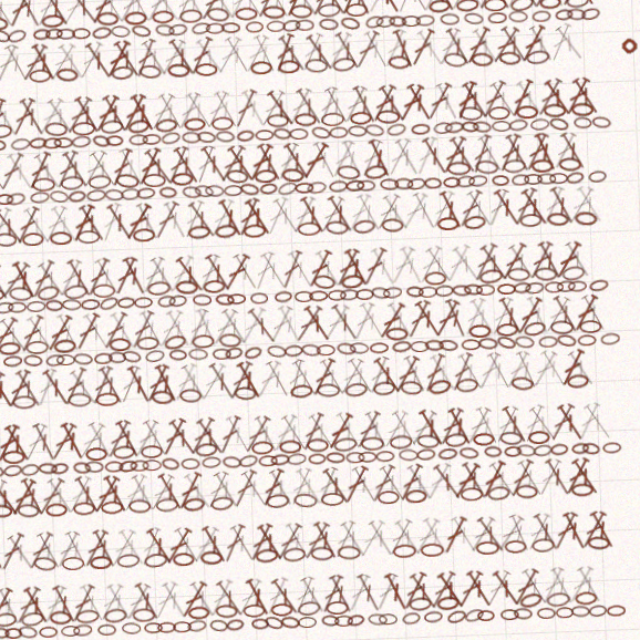chain: (520, 54, 543, 70), (83, 299, 105, 315), (196, 348, 218, 364), (521, 348, 543, 364), (433, 397, 455, 413), (508, 593, 530, 609), (458, 103, 480, 118), (158, 201, 180, 216), (358, 201, 380, 216), (483, 201, 505, 216), (246, 54, 267, 69), (258, 201, 279, 216), (333, 299, 354, 314), (71, 544, 92, 559), (308, 593, 329, 608), (533, 104, 555, 118), (58, 300, 80, 314), (108, 300, 130, 314), (483, 300, 505, 314), (346, 447, 368, 461), (308, 496, 330, 510), (171, 545, 193, 559), (533, 594, 555, 608), (46, 55, 67, 69), (108, 104, 129, 118), (158, 104, 179, 118), (183, 104, 204, 118), (333, 104, 354, 118), (358, 104, 379, 118), (408, 104, 429, 118), (483, 104, 504, 118), (508, 104, 529, 118), (21, 153, 42, 167), (171, 153, 192, 167), (196, 153, 217, 167), (308, 202, 329, 216), (383, 202, 404, 216), (346, 251, 367, 265), (371, 251, 392, 265), (471, 251, 492, 265), (546, 251, 567, 265), (571, 251, 592, 265), (358, 300, 379, 314), (533, 300, 554, 314), (558, 300, 579, 314), (21, 349, 42, 363), (246, 349, 267, 363), (183, 398, 204, 412), (358, 398, 379, 412), (408, 398, 429, 412), (508, 398, 529, 412), (221, 447, 242, 461), (421, 447, 442, 461), (496, 447, 517, 461), (58, 496, 79, 510), (208, 496, 229, 510), (233, 496, 254, 510), (483, 496, 504, 510), (58, 594, 79, 608), (183, 300, 205, 313), (283, 496, 305, 509), (50, 66, 69, 81), (139, 311, 158, 326), (496, 360, 515, 375), (277, 605, 296, 620), (458, 605, 477, 620), (571, 55, 592, 68), (46, 153, 67, 166), (96, 153, 117, 166), (396, 153, 417, 166), (471, 153, 492, 166), (33, 202, 54, 215), (458, 202, 479, 215), (246, 251, 267, 264), (546, 349, 567, 362), (108, 398, 129, 411), (258, 398, 279, 411), (333, 398, 354, 411), (21, 447, 42, 460), (346, 545, 367, 558), (108, 594, 129, 607), (133, 594, 154, 607), (65, 67, 84, 81), (177, 67, 196, 81), (366, 67, 385, 81), (336, 165, 355, 179), (551, 165, 570, 179), (304, 214, 323, 228), (30, 459, 49, 473), (442, 606, 461, 620), (22, 55, 42, 68), (147, 55, 167, 68), (297, 55, 317, 68), (322, 55, 342, 68), (347, 55, 367, 68), (447, 55, 467, 68), (472, 55, 492, 68), (209, 104, 229, 117), (147, 153, 167, 166), (297, 153, 317, 166), (322, 153, 342, 166), (547, 153, 567, 166), (572, 153, 592, 166), (109, 202, 129, 215), (134, 202, 154, 215), (509, 202, 529, 215), (559, 202, 579, 215), (47, 251, 67, 264), (222, 251, 242, 264), (397, 251, 417, 264), (209, 300, 229, 313), (509, 300, 529, 313), (97, 349, 117, 362), (209, 398, 229, 411), (309, 398, 329, 411), (384, 398, 404, 411), (459, 398, 479, 411), (559, 398, 579, 411), (147, 447, 167, 460), (322, 447, 342, 460), (397, 447, 417, 460), (447, 447, 467, 460), (34, 496, 54, 509), (159, 496, 179, 509), (184, 496, 204, 509), (509, 496, 529, 509), (147, 545, 167, 558), (222, 545, 242, 558), (272, 545, 292, 558), (297, 545, 317, 558), (322, 545, 342, 558), (522, 545, 542, 558), (572, 545, 592, 558), (34, 594, 54, 607), (84, 594, 104, 607), (234, 594, 254, 607), (409, 594, 429, 607), (434, 594, 454, 607), (121, 154, 142, 166), (346, 154, 367, 166), (138, 165, 156, 179), (83, 203, 104, 215), (183, 203, 204, 215), (321, 252, 342, 264), (268, 361, 286, 375), (58, 399, 79, 411), (133, 399, 154, 411), (371, 448, 392, 460), (333, 497, 354, 509), (396, 546, 417, 558), (421, 546, 442, 558), (471, 546, 492, 558), (97, 56, 117, 68), (172, 56, 192, 68), (197, 56, 217, 68), (222, 56, 242, 68), (272, 56, 292, 68), (372, 56, 392, 68), (497, 56, 517, 68), (547, 56, 567, 68), (34, 105, 54, 117), (84, 105, 104, 117), (234, 105, 254, 117), (284, 105, 304, 117), (309, 105, 329, 117), (222, 154, 242, 166), (247, 154, 267, 166), (372, 154, 392, 166), (497, 154, 517, 166), (522, 154, 542, 166), (209, 203, 229, 215), (284, 203, 304, 215), (534, 203, 554, 215), (22, 252, 42, 264), (72, 252, 92, 264), (97, 252, 117, 264), (122, 252, 142, 264), (172, 252, 192, 264), (272, 252, 292, 264), (447, 252, 467, 264), (522, 252, 542, 264), (34, 301, 54, 313), (134, 301, 154, 313), (234, 301, 254, 313), (434, 301, 454, 313), (47, 350, 67, 362), (72, 350, 92, 362), (147, 350, 167, 362), (172, 350, 192, 362), (222, 350, 242, 362), (397, 350, 417, 362), (472, 350, 492, 362), (497, 350, 517, 362), (572, 350, 592, 362), (47, 448, 67, 460), (122, 448, 142, 460), (172, 448, 192, 460), (272, 448, 292, 460), (297, 448, 317, 460), (472, 448, 492, 460), (522, 448, 542, 460), (84, 497, 104, 509), (109, 497, 129, 509), (134, 497, 154, 509), (384, 497, 404, 509), (409, 497, 429, 509), (459, 497, 479, 509), (559, 497, 579, 509), (22, 546, 42, 558), (97, 546, 117, 558), (122, 546, 142, 558), (197, 546, 217, 558), (497, 546, 517, 558), (159, 595, 179, 607), (209, 595, 229, 607), (259, 595, 279, 607), (284, 595, 304, 607), (334, 595, 354, 607), (559, 595, 579, 607), (232, 67, 250, 80), (584, 67, 602, 80), (201, 165, 219, 178), (385, 165, 403, 178), (405, 165, 423, 178), (98, 214, 116, 227), (229, 214, 247, 227), (270, 214, 288, 227), (385, 312, 403, 325), (158, 361, 176, 374), (179, 361, 197, 374), (289, 361, 307, 374), (320, 361, 338, 374), (352, 361, 370, 374), (513, 361, 531, 374), (551, 361, 569, 374), (260, 459, 278, 472), (511, 459, 529, 472), (55, 606, 73, 619), (292, 606, 310, 619), (389, 67, 406, 80), (302, 165, 319, 178), (251, 361, 268, 374), (190, 459, 207, 472), (31, 68, 49, 80), (142, 68, 160, 80), (199, 68, 217, 80), (211, 68, 229, 80), (347, 68, 365, 80), (478, 68, 496, 80), (65, 166, 83, 178), (233, 166, 251, 178), (250, 166, 268, 178), (482, 166, 500, 178), (590, 166, 608, 178), (59, 215, 77, 227), (148, 215, 166, 227), (218, 215, 236, 227), (331, 215, 349, 227), (421, 215, 439, 227), (45, 313, 63, 325), (244, 313, 262, 325), (458, 313, 476, 325), (524, 313, 542, 325), (582, 313, 600, 325), (89, 362, 107, 374), (114, 362, 132, 374), (444, 362, 462, 374), (47, 460, 65, 472), (151, 460, 169, 472), (245, 460, 263, 472), (440, 460, 458, 472), (459, 460, 477, 472), (526, 460, 544, 472), (371, 607, 389, 619), (314, 68, 331, 80), (410, 68, 427, 80), (269, 166, 286, 178), (115, 215, 132, 227), (565, 215, 582, 227), (63, 460, 80, 472), (90, 460, 107, 472), (110, 460, 127, 472), (570, 460, 587, 472), (228, 607, 245, 619), (243, 607, 260, 619), (352, 607, 369, 619), (402, 607, 419, 619), (159, 68, 177, 79), (571, 68, 589, 79), (120, 166, 138, 177), (447, 166, 465, 177), (457, 166, 475, 177), (515, 166, 533, 177), (69, 362, 87, 373), (218, 362, 236, 373), (402, 362, 420, 373), (480, 362, 498, 373), (208, 607, 226, 618), (399, 68, 416, 79), (457, 68, 474, 79), (519, 68, 536, 79), (220, 166, 237, 177), (370, 166, 387, 177), (472, 166, 489, 177), (535, 166, 552, 177), (31, 215, 48, 226), (81, 215, 98, 226), (132, 215, 149, 226), (163, 215, 180, 226), (177, 215, 194, 226), (197, 215, 214, 226), (239, 215, 256, 226), (288, 215, 305, 226), (351, 215, 368, 226), (366, 215, 383, 226), (397, 215, 414, 226), (410, 215, 427, 226), (466, 215, 483, 226), (477, 215, 494, 226), (585, 215, 602, 226), (106, 313, 123, 324), (192, 313, 209, 324), (202, 313, 219, 324), (224, 313, 241, 324), (396, 313, 413, 324), (443, 313, 460, 324), (469, 313, 486, 324), (553, 313, 570, 324), (51, 362, 68, 373), (305, 362, 322, 373), (364, 362, 381, 373), (432, 362, 449, 373), (591, 362, 608, 373), (79, 460, 96, 471), (121, 460, 138, 471), (227, 460, 244, 471), (289, 460, 306, 471), (304, 460, 321, 471), (339, 460, 356, 471), (405, 460, 422, 471), (421, 460, 438, 471), (31, 607, 48, 618), (105, 607, 122, 618), (149, 607, 166, 618), (329, 607, 346, 618), (422, 607, 439, 618), (503, 607, 520, 618), (555, 607, 572, 618), (89, 68, 105, 79), (100, 68, 116, 79), (561, 68, 577, 79), (82, 166, 98, 177), (574, 166, 590, 177), (91, 313, 107, 324), (156, 313, 172, 324), (298, 313, 314, 324), (417, 313, 433, 324), (514, 313, 530, 324), (32, 362, 48, 373), (146, 362, 162, 373), (201, 362, 217, 373), (482, 460, 498, 471), (542, 460, 558, 471), (561, 460, 577, 471), (571, 607, 587, 618), (110, 69, 127, 79), (124, 69, 141, 79), (245, 69, 262, 79), (259, 69, 276, 79), (300, 69, 317, 79), (326, 69, 343, 79), (422, 69, 439, 79), (435, 69, 452, 79), (500, 69, 517, 79), (540, 69, 557, 79), (31, 167, 48, 177), (94, 167, 111, 177), (104, 167, 121, 177), (172, 167, 189, 177), (184, 167, 201, 177), (286, 167, 303, 177), (317, 167, 334, 177), (353, 167, 370, 177), (427, 167, 444, 177), (500, 167, 517, 177), (256, 216, 273, 226), (320, 216, 337, 226), (376, 216, 393, 226), (527, 216, 544, 226), (539, 216, 556, 226), (550, 216, 567, 226), (57, 314, 74, 324), (74, 314, 91, 324), (123, 314, 140, 324), (171, 314, 188, 324), (255, 314, 272, 324), (316, 314, 333, 324), (329, 314, 346, 324), (346, 314, 363, 324), (357, 314, 374, 324), (371, 314, 388, 324), (428, 314, 445, 324), (480, 314, 497, 324), (499, 314, 516, 324), (542, 314, 559, 324), (563, 314, 580, 324), (99, 363, 116, 373), (133, 363, 150, 373), (240, 363, 257, 373), (334, 363, 351, 373), (382, 363, 399, 373), (419, 363, 436, 373), (465, 363, 482, 373), (535, 363, 552, 373), (570, 363, 587, 373), (139, 461, 156, 471), (162, 461, 179, 471), (173, 461, 190, 471), (208, 461, 225, 471), (278, 461, 295, 471), (357, 461, 374, 471), (368, 461, 385, 471), (384, 461, 401, 471), (589, 461, 606, 471), (74, 608, 91, 618), (94, 608, 111, 618), (127, 608, 144, 618), (169, 608, 186, 618), (181, 608, 198, 618), (195, 608, 212, 618), (308, 608, 325, 618), (341, 608, 358, 618), (381, 608, 398, 618), (491, 608, 508, 618), (524, 608, 541, 618), (587, 608, 604, 618), (281, 69, 297, 79), (45, 167, 61, 177), (151, 167, 167, 177), (50, 216, 66, 226), (437, 216, 453, 226), (454, 216, 470, 226), (498, 216, 514, 226), (516, 216, 532, 226), (32, 314, 48, 324), (276, 314, 292, 324), (323, 461, 339, 471), (500, 461, 516, 471), (43, 608, 59, 618), (266, 608, 282, 618), (470, 608, 486, 618), (541, 608, 557, 618)
double: (49, 277, 80, 312), (121, 32, 151, 68), (471, 32, 501, 68), (233, 81, 263, 117), (500, 81, 530, 117), (558, 81, 588, 117), (183, 179, 213, 215), (46, 228, 76, 264), (46, 326, 76, 362), (271, 326, 301, 362), (313, 326, 343, 362), (338, 326, 368, 362), (388, 326, 418, 362), (113, 424, 143, 460), (413, 424, 443, 460), (521, 424, 551, 460), (33, 473, 63, 509), (433, 473, 463, 509), (450, 473, 480, 509), (488, 522, 518, 558), (113, 32, 142, 68), (196, 32, 225, 68), (238, 32, 267, 68), (321, 32, 350, 68), (75, 81, 104, 117), (100, 81, 129, 117), (133, 81, 162, 117), (200, 81, 229, 117), (308, 81, 337, 117), (333, 81, 362, 117), (433, 81, 462, 117), (483, 81, 512, 117), (88, 130, 117, 166), (113, 130, 142, 166), (288, 130, 317, 166), (296, 130, 325, 166), (521, 130, 550, 166), (546, 130, 575, 166), (33, 179, 62, 215), (83, 179, 112, 215), (133, 179, 162, 215), (250, 179, 279, 215), (258, 179, 287, 215), (325, 179, 354, 215), (163, 228, 192, 264), (221, 228, 250, 264), (338, 228, 367, 264), (396, 228, 425, 264), (413, 228, 442, 264), (563, 228, 592, 264), (83, 277, 112, 313), (208, 277, 237, 313), (250, 277, 279, 313), (433, 277, 462, 313), (458, 277, 487, 313), (483, 277, 512, 313), (508, 277, 537, 313), (550, 277, 579, 313), (13, 326, 42, 362), (21, 326, 50, 362), (38, 326, 67, 362), (71, 326, 100, 362), (88, 326, 117, 362), (238, 326, 267, 362), (263, 326, 292, 362), (513, 326, 542, 362), (538, 326, 567, 362), (25, 375, 54, 411), (108, 375, 137, 411), (225, 375, 254, 411), (350, 375, 379, 411), (383, 375, 412, 411), (400, 375, 429, 411), (525, 375, 554, 411), (558, 375, 587, 411), (88, 424, 117, 460), (196, 424, 225, 460), (221, 424, 250, 460), (263, 424, 292, 460), (338, 424, 367, 460), (388, 424, 417, 460), (571, 424, 600, 460), (50, 473, 79, 509), (75, 473, 104, 509), (125, 473, 154, 509), (175, 473, 204, 509), (208, 473, 237, 509), (333, 473, 362, 509), (483, 473, 512, 509), (558, 473, 587, 509), (46, 522, 75, 558), (138, 522, 167, 558), (188, 522, 217, 558), (213, 522, 242, 558), (288, 522, 317, 558), (313, 522, 342, 558), (363, 522, 392, 558), (396, 522, 425, 558), (413, 522, 442, 558), (463, 522, 492, 558), (471, 522, 500, 558), (150, 571, 179, 607), (200, 571, 229, 607), (233, 571, 262, 607), (283, 571, 312, 607), (408, 571, 437, 607), (433, 571, 462, 607), (450, 571, 479, 607), (475, 571, 504, 607), (483, 571, 512, 607), (47, 31, 75, 68), (97, 31, 125, 68), (139, 31, 167, 68), (147, 31, 175, 68), (164, 31, 192, 68), (189, 31, 217, 68), (272, 31, 300, 68), (347, 31, 375, 68), (389, 31, 417, 68), (464, 31, 492, 68), (522, 31, 550, 68), (539, 31, 567, 68), (564, 31, 592, 68), (572, 31, 600, 68), (26, 80, 54, 117), (34, 80, 62, 117), (126, 80, 154, 117), (151, 80, 179, 117), (159, 80, 187, 117), (184, 80, 212, 117), (209, 80, 237, 117), (276, 80, 304, 117), (351, 80, 379, 117), (376, 80, 404, 117), (426, 80, 454, 117), (476, 80, 504, 117), (509, 80, 537, 117), (526, 80, 554, 117), (22, 129, 50, 166), (47, 129, 75, 166), (139, 129, 167, 166), (189, 129, 217, 166), (222, 129, 250, 166), (322, 129, 350, 166), (389, 129, 417, 166), (397, 129, 425, 166), (439, 129, 467, 166), (472, 129, 500, 166), (539, 129, 567, 166), (564, 129, 592, 166), (572, 129, 600, 166), (51, 178, 79, 215), (59, 178, 87, 215), (109, 178, 137, 215), (126, 178, 154, 215), (209, 178, 237, 215), (234, 178, 262, 215), (276, 178, 304, 215), (309, 178, 337, 215), (401, 178, 429, 215), (451, 178, 479, 215), (459, 178, 487, 215), (551, 178, 579, 215), (97, 227, 125, 264), (122, 227, 150, 264), (147, 227, 175, 264), (189, 227, 217, 264), (239, 227, 267, 264), (272, 227, 300, 264), (297, 227, 325, 264), (389, 227, 417, 264), (472, 227, 500, 264), (497, 227, 525, 264), (572, 227, 600, 264), (26, 276, 54, 313), (184, 276, 212, 313), (201, 276, 229, 313), (234, 276, 262, 313), (284, 276, 312, 313), (351, 276, 379, 313), (401, 276, 429, 313), (451, 276, 479, 313), (501, 276, 529, 313), (559, 276, 587, 313), (114, 325, 142, 362), (122, 325, 150, 362), (139, 325, 167, 362), (189, 325, 217, 362), (247, 325, 275, 362), (289, 325, 317, 362), (322, 325, 350, 362), (347, 325, 375, 362), (397, 325, 425, 362), (422, 325, 450, 362), (564, 325, 592, 362), (34, 374, 62, 411), (59, 374, 87, 411), (84, 374, 112, 411), (234, 374, 262, 411), (276, 374, 304, 411), (359, 374, 387, 411), (434, 374, 462, 411), (501, 374, 529, 411), (47, 423, 75, 460), (164, 423, 192, 460), (214, 423, 242, 460), (289, 423, 317, 460), (297, 423, 325, 460), (322, 423, 350, 460), (364, 423, 392, 460), (397, 423, 425, 460), (439, 423, 467, 460), (464, 423, 492, 460), (489, 423, 517, 460), (539, 423, 567, 460), (547, 423, 575, 460), (84, 472, 112, 509), (101, 472, 129, 509), (151, 472, 179, 509), (234, 472, 262, 509), (259, 472, 287, 509), (309, 472, 337, 509), (351, 472, 379, 509), (384, 472, 412, 509), (409, 472, 437, 509), (426, 472, 454, 509), (526, 472, 554, 509), (551, 472, 579, 509), (64, 521, 92, 558), (89, 521, 117, 558), (114, 521, 142, 558), (147, 521, 175, 558), (172, 521, 200, 558), (272, 521, 300, 558), (347, 521, 375, 558), (372, 521, 400, 558), (389, 521, 417, 558), (447, 521, 475, 558), (514, 521, 542, 558), (564, 521, 592, 558), (26, 570, 54, 607), (51, 570, 79, 607), (126, 570, 154, 607), (209, 570, 237, 607), (251, 570, 279, 607), (426, 570, 454, 607), (459, 570, 487, 607), (509, 570, 537, 607), (551, 570, 579, 607), (247, 32, 275, 68), (109, 81, 137, 117), (251, 81, 279, 117), (97, 130, 125, 166), (414, 130, 442, 166), (497, 130, 525, 166), (72, 228, 100, 264), (522, 228, 550, 264), (439, 326, 467, 362), (501, 571, 529, 607), (14, 31, 41, 68), (39, 31, 66, 68), (89, 31, 116, 68), (172, 31, 199, 68), (222, 31, 249, 68), (264, 31, 291, 68), (289, 31, 316, 68), (297, 31, 324, 68), (339, 31, 366, 68), (397, 31, 424, 68), (422, 31, 449, 68), (439, 31, 466, 68), (447, 31, 474, 68), (489, 31, 516, 68), (497, 31, 524, 68), (514, 31, 541, 68), (51, 80, 78, 117), (259, 80, 286, 117), (359, 80, 386, 117), (451, 80, 478, 117), (459, 80, 486, 117), (534, 80, 561, 117), (14, 129, 41, 166), (64, 129, 91, 166), (72, 129, 99, 166), (122, 129, 149, 166), (147, 129, 174, 166), (164, 129, 191, 166), (172, 129, 199, 166), (197, 129, 224, 166), (214, 129, 241, 166), (239, 129, 266, 166), (247, 129, 274, 166), (314, 129, 341, 166), (347, 129, 374, 166), (364, 129, 391, 166), (422, 129, 449, 166), (489, 129, 516, 166), (26, 178, 53, 215), (176, 178, 203, 215), (351, 178, 378, 215), (409, 178, 436, 215), (434, 178, 461, 215), (484, 178, 511, 215), (509, 178, 536, 215), (526, 178, 553, 215), (559, 178, 586, 215), (14, 227, 41, 264), (22, 227, 49, 264), (64, 227, 91, 264), (89, 227, 116, 264), (314, 227, 341, 264), (322, 227, 349, 264), (347, 227, 374, 264), (364, 227, 391, 264), (439, 227, 466, 264), (464, 227, 491, 264), (514, 227, 541, 264), (34, 276, 61, 313), (76, 276, 103, 313), (101, 276, 128, 313), (109, 276, 136, 313), (126, 276, 153, 313), (134, 276, 161, 313), (151, 276, 178, 313), (176, 276, 203, 313), (259, 276, 286, 313), (309, 276, 336, 313), (326, 276, 353, 313), (334, 276, 361, 313), (376, 276, 403, 313), (384, 276, 411, 313), (426, 276, 453, 313), (476, 276, 503, 313), (526, 276, 553, 313), (64, 325, 91, 362), (147, 325, 174, 362), (164, 325, 191, 362), (197, 325, 224, 362), (372, 325, 399, 362), (414, 325, 441, 362), (472, 325, 499, 362), (489, 325, 516, 362), (547, 325, 574, 362), (572, 325, 599, 362), (51, 374, 78, 411), (134, 374, 161, 411), (176, 374, 203, 411), (201, 374, 228, 411), (209, 374, 236, 411), (251, 374, 278, 411), (259, 374, 286, 411), (309, 374, 336, 411), (326, 374, 353, 411), (334, 374, 361, 411), (459, 374, 486, 411), (476, 374, 503, 411), (534, 374, 561, 411), (551, 374, 578, 411), (39, 423, 66, 460), (64, 423, 91, 460), (139, 423, 166, 460), (172, 423, 199, 460), (189, 423, 216, 460), (247, 423, 274, 460), (347, 423, 374, 460), (422, 423, 449, 460), (497, 423, 524, 460), (564, 423, 591, 460), (26, 472, 53, 509), (109, 472, 136, 509), (184, 472, 211, 509), (201, 472, 228, 509), (251, 472, 278, 509), (284, 472, 311, 509), (359, 472, 386, 509), (376, 472, 403, 509), (401, 472, 428, 509), (459, 472, 486, 509), (476, 472, 503, 509), (501, 472, 528, 509), (509, 472, 536, 509), (534, 472, 561, 509), (14, 521, 41, 558), (22, 521, 49, 558), (39, 521, 66, 558), (72, 521, 99, 558), (197, 521, 224, 558), (222, 521, 249, 558), (247, 521, 274, 558), (264, 521, 291, 558), (297, 521, 324, 558), (422, 521, 449, 558), (439, 521, 466, 558), (522, 521, 549, 558), (539, 521, 566, 558), (59, 570, 86, 607), (76, 570, 103, 607), (101, 570, 128, 607), (134, 570, 161, 607), (176, 570, 203, 607), (184, 570, 211, 607), (226, 570, 253, 607), (309, 570, 336, 607), (351, 570, 378, 607), (376, 570, 403, 607), (401, 570, 428, 607), (526, 570, 553, 607), (559, 570, 586, 607), (65, 31, 91, 68), (73, 31, 99, 68), (215, 31, 241, 68), (315, 31, 341, 68), (365, 31, 391, 68), (60, 80, 86, 117), (85, 80, 111, 117), (227, 80, 253, 117), (327, 80, 353, 117), (385, 80, 411, 117), (402, 80, 428, 117), (265, 129, 291, 166), (273, 129, 299, 166), (373, 129, 399, 166), (515, 129, 541, 166), (77, 178, 103, 215), (102, 178, 128, 215), (160, 178, 186, 215), (202, 178, 228, 215), (285, 178, 311, 215), (302, 178, 328, 215), (377, 178, 403, 215), (427, 178, 453, 215), (502, 178, 528, 215), (40, 227, 66, 264), (115, 227, 141, 264), (173, 227, 199, 264), (198, 227, 224, 264), (248, 227, 274, 264), (290, 227, 316, 264), (373, 227, 399, 264), (423, 227, 449, 264), (490, 227, 516, 264), (540, 227, 566, 264), (548, 227, 574, 264), (60, 276, 86, 313), (227, 276, 253, 313), (360, 276, 386, 313), (410, 276, 436, 313), (535, 276, 561, 313), (173, 325, 199, 362), (215, 325, 241, 362), (298, 325, 324, 362), (365, 325, 391, 362), (465, 325, 491, 362), (498, 325, 524, 362), (102, 374, 128, 411), (160, 374, 186, 411), (285, 374, 311, 411), (485, 374, 511, 411), (98, 423, 124, 460), (123, 423, 149, 460), (148, 423, 174, 460), (240, 423, 266, 460), (273, 423, 299, 460), (315, 423, 341, 460), (448, 423, 474, 460), (60, 472, 86, 509), (135, 472, 161, 509), (160, 472, 186, 509), (227, 472, 253, 509), (277, 472, 303, 509), (302, 472, 328, 509), (123, 521, 149, 558), (240, 521, 266, 558), (323, 521, 349, 558), (340, 521, 366, 558), (548, 521, 574, 558), (573, 521, 599, 558), (35, 570, 61, 607), (85, 570, 111, 607), (110, 570, 136, 607), (160, 570, 186, 607), (260, 570, 286, 607), (277, 570, 303, 607), (327, 570, 353, 607), (335, 570, 361, 607), (360, 570, 386, 607), (385, 570, 411, 607), (535, 570, 561, 607), (23, 31, 48, 68), (373, 31, 398, 68), (415, 31, 440, 68), (548, 31, 573, 68), (177, 80, 202, 117), (285, 80, 310, 117), (552, 80, 577, 117), (448, 129, 473, 166), (152, 178, 177, 215), (335, 178, 360, 215), (385, 178, 410, 215), (535, 178, 560, 215), (215, 227, 240, 264), (265, 227, 290, 264), (448, 227, 473, 264), (160, 276, 185, 313), (277, 276, 302, 313), (302, 276, 327, 313), (98, 325, 123, 362), (523, 325, 548, 362), (77, 374, 102, 411), (127, 374, 152, 411), (152, 374, 177, 411), (185, 374, 210, 411), (377, 374, 402, 411), (410, 374, 435, 411), (427, 374, 452, 411), (452, 374, 477, 411), (15, 423, 40, 460), (23, 423, 48, 460), (73, 423, 98, 460), (373, 423, 398, 460), (473, 423, 498, 460), (515, 423, 540, 460), (327, 472, 352, 509), (98, 521, 123, 558), (165, 521, 190, 558), (302, 570, 327, 607), (303, 80, 327, 117), (411, 80, 435, 117), (41, 129, 65, 166), (341, 129, 365, 166), (466, 129, 490, 166), (228, 178, 252, 215), (361, 178, 385, 215), (141, 227, 165, 264), (224, 325, 248, 362), (449, 325, 473, 362), (511, 374, 535, 411), (499, 521, 523, 558), (478, 178, 501, 215), (304, 374, 325, 411)
noise: (618, 95, 636, 113), (0, 346, 13, 367)
